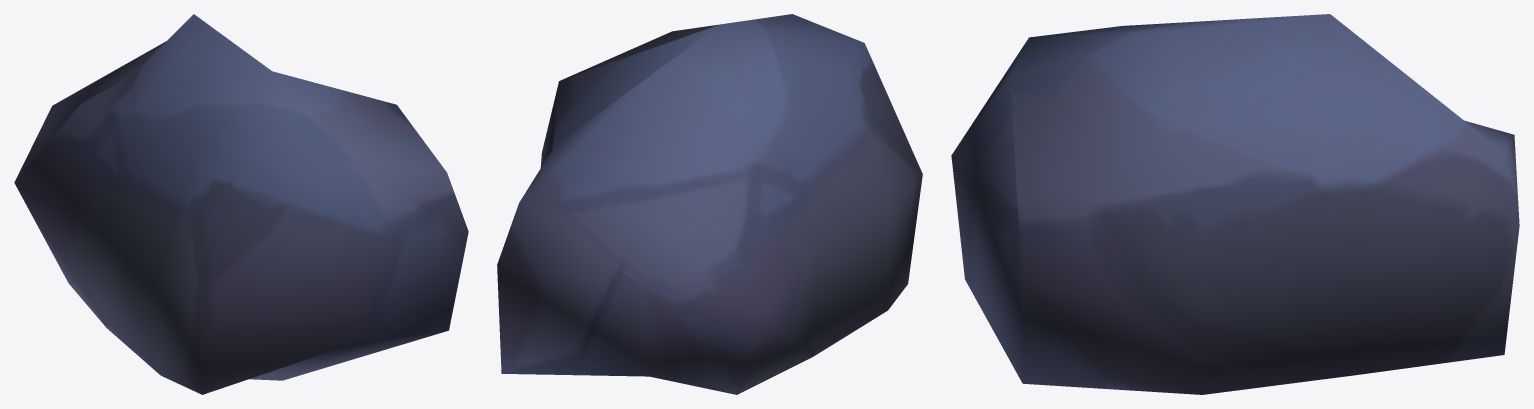
Rendered from SM_SmallStone_01.fbx.
3 renders of one model, left to right at view 1: azimuth 30°, elevation 25°; view 2: azimuth 150°, elevation 25°; view 3: azimuth 270°, elevation 25°, orthographic. The views are drawn at different scales.
Parts seen in each view (by area): view 1: Cube; view 2: Cube; view 3: Cube.
Part boxes in pixels (left/top/right/bottom): Cube: left=14, top=14, right=468, bottom=394; Cube: left=497, top=14, right=922, bottom=394; Cube: left=951, top=14, right=1519, bottom=394.
Size of the model in its own units: 29.27 by 27.31 by 40.13.
